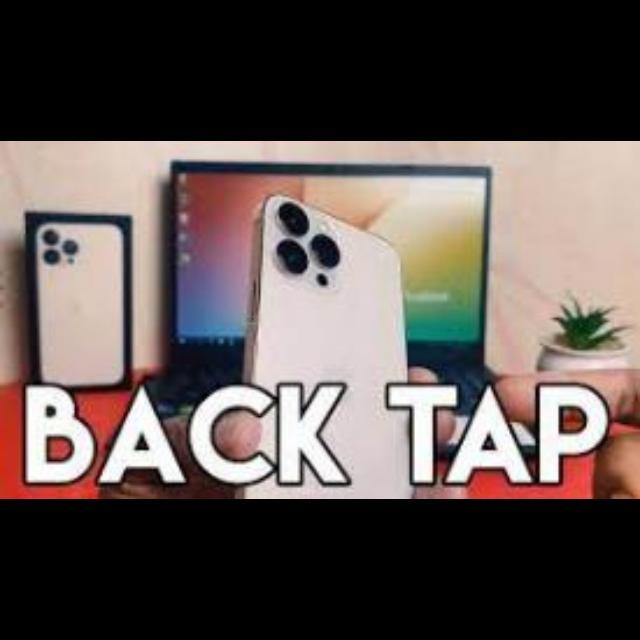Phone: (238, 192, 408, 500), (36, 223, 126, 385)
